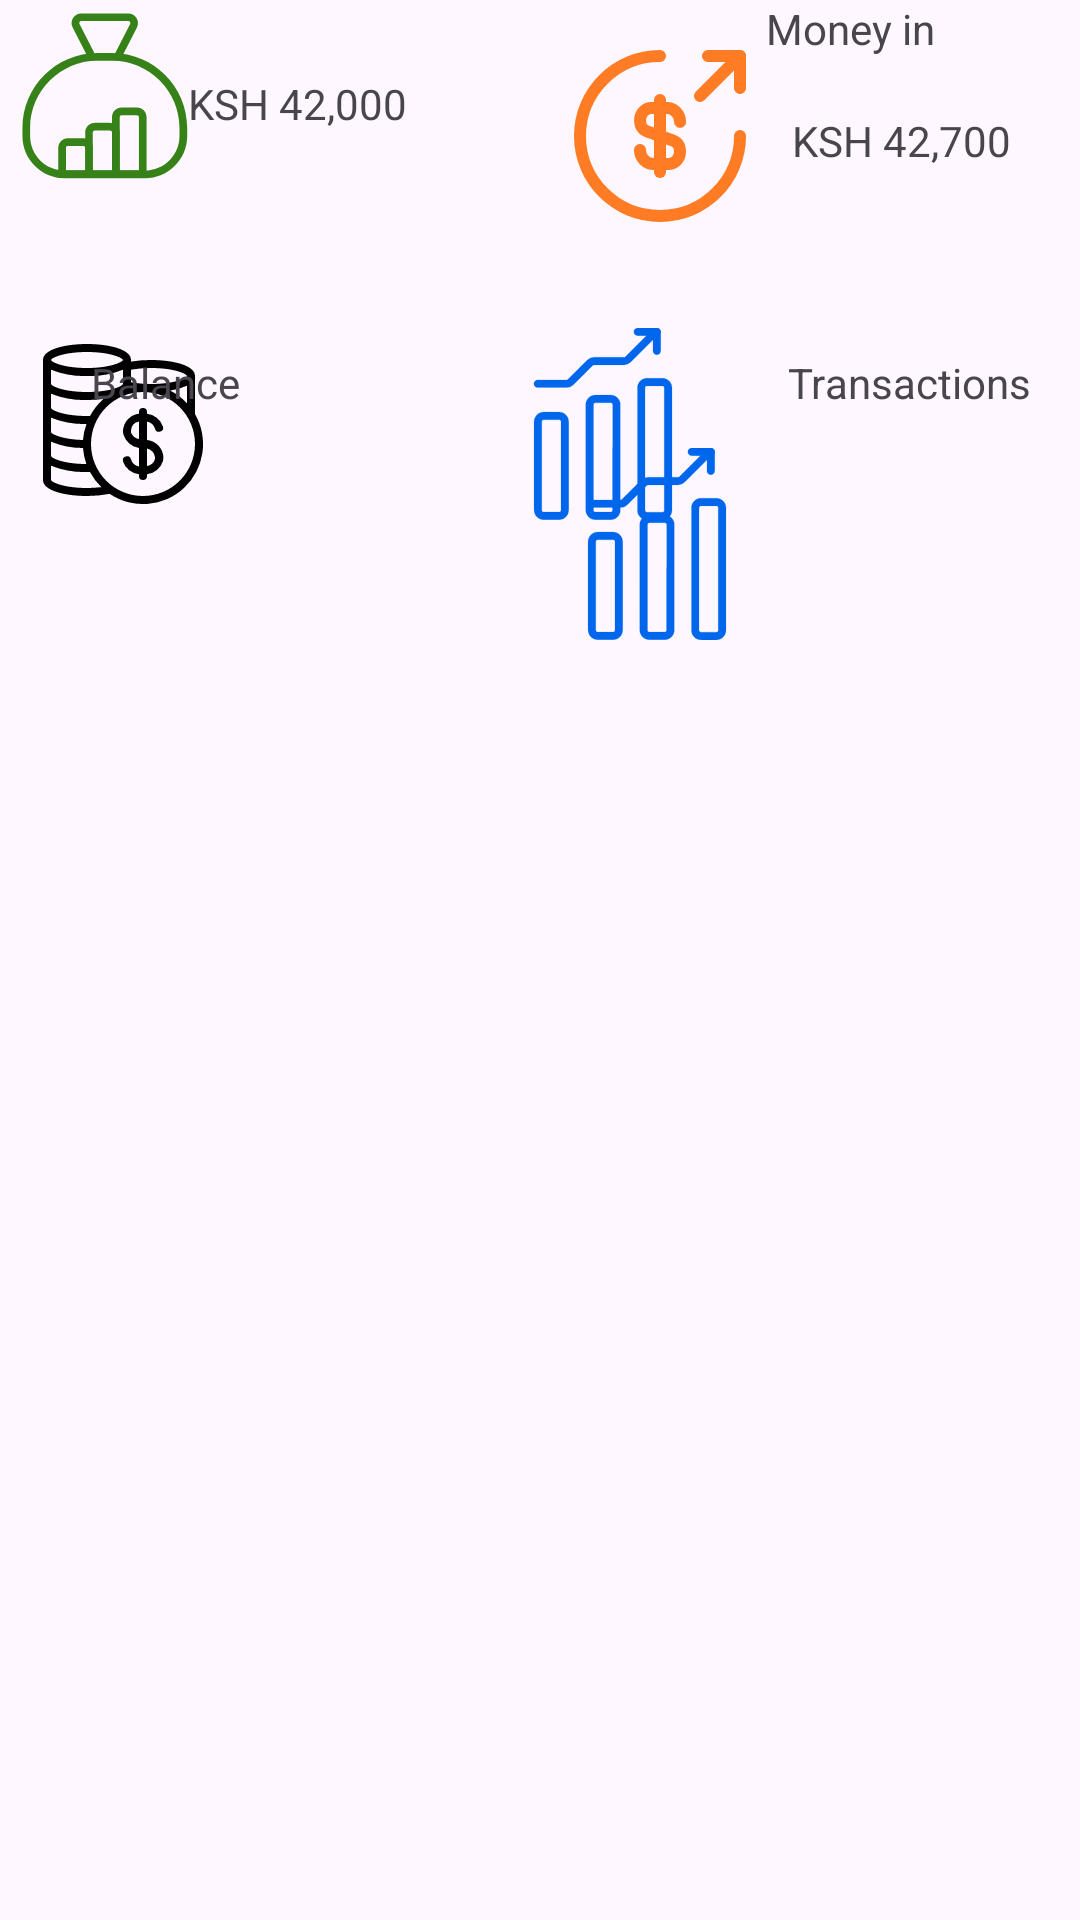

Named icons in this screenshot (1080w x 1920h) and their centers, [x,y]:
expense: [660,136]
income: [105,96]
